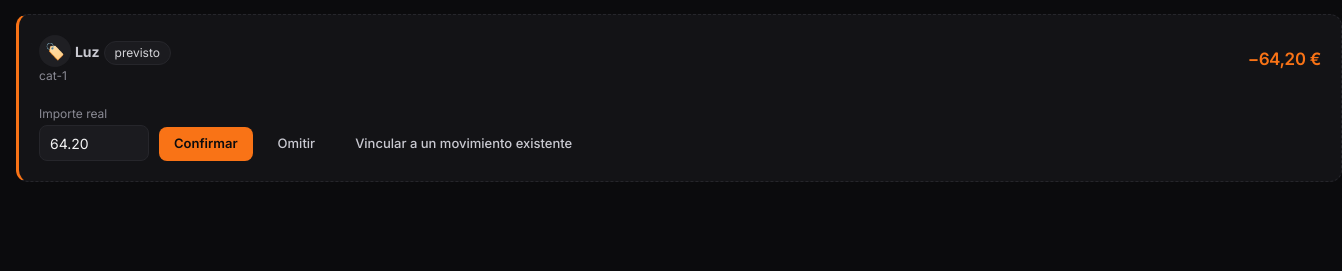
it: OccurrenceRow — vincular a un movimiento existente › sin movimientos cercanos lo dice, y Cancelar vuelve atrás
This screenshot has width=1342, height=271.
Click the button "Vincular a un movimiento existente" at (464, 144), box [340,127,587,161]
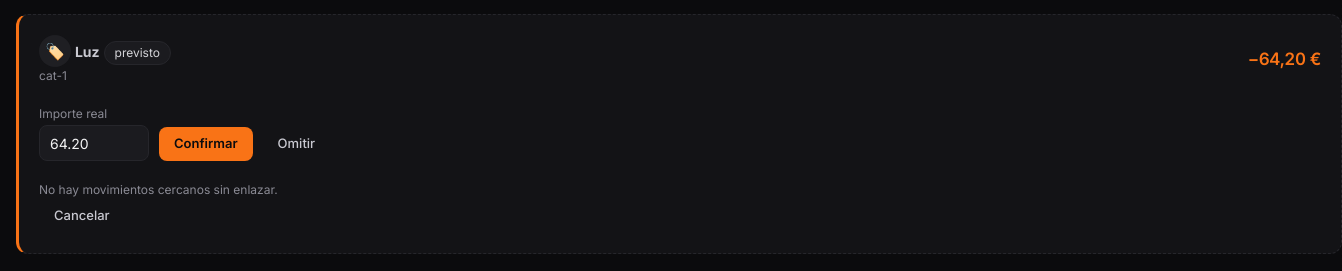
Result: the text "No hay movimientos cercanos sin enlazar." is shown at [39,182,278,197]
Click the button "Cancelar" at (82, 216), box [39,199,125,233]
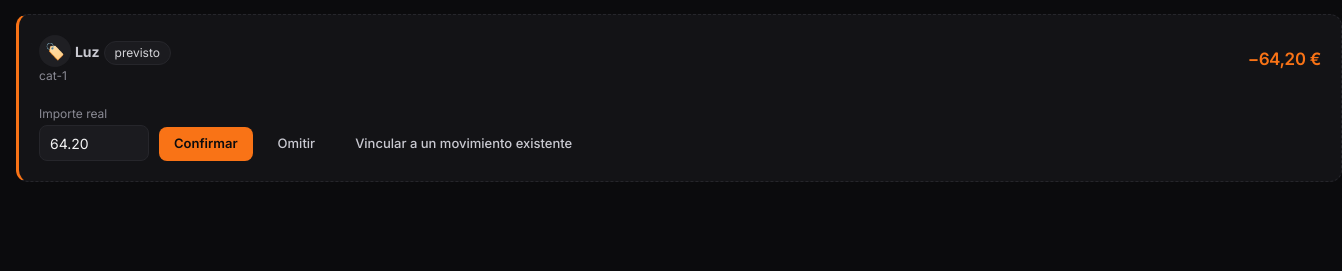
Result: the text "No hay movimientos cercanos sin enlazar." is gone
Result: the button "Vincular a un movimiento existente" is shown at [340,127,587,161]
